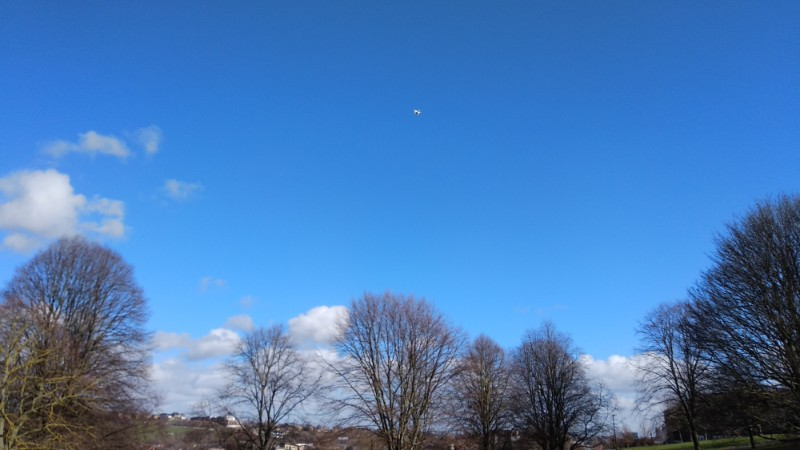drone: (412, 106, 424, 120)
